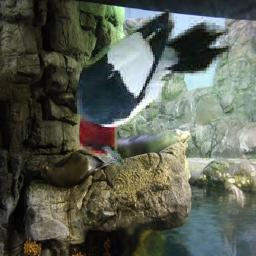Woodpecker: (78, 12, 233, 167)
